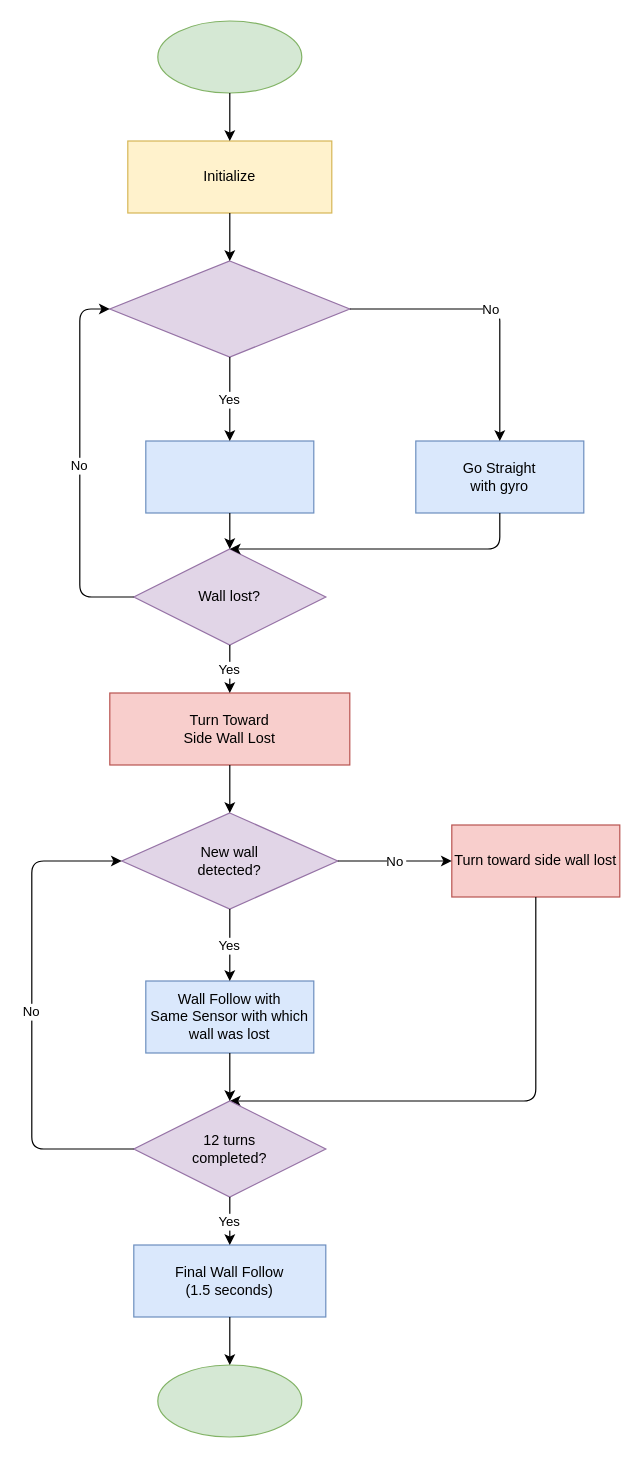
The diagram is 641 pixels wide and 1458 high, and some of its shapes have lost their labels. Each missing label, with the centre of its shape:
Any side wall closer than 7 cm?: [229,308]
Mission Complete: [229,1400]
Start: [229,56]
Wall Follow: [229,476]
